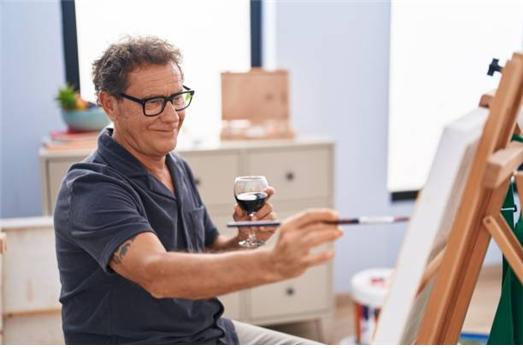alcohol: (236, 174, 271, 248)
